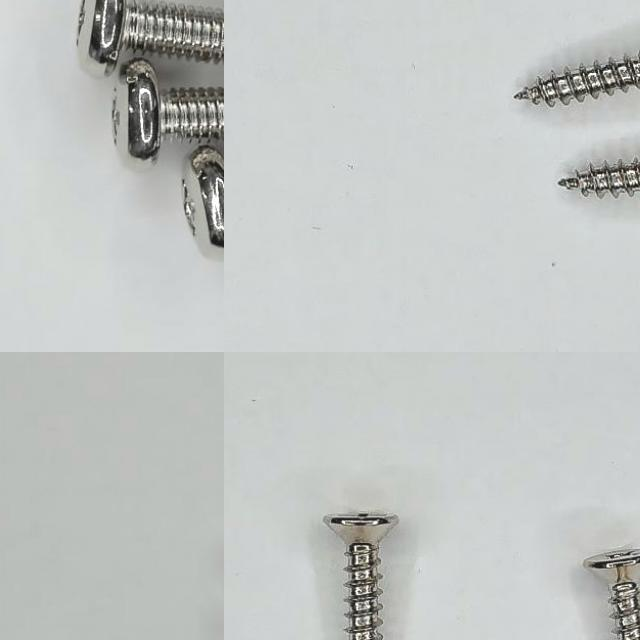Screw: (113, 58, 224, 161), (78, 0, 224, 75), (323, 513, 399, 640), (514, 52, 640, 106), (583, 548, 640, 640), (184, 146, 224, 248), (558, 161, 640, 199)
